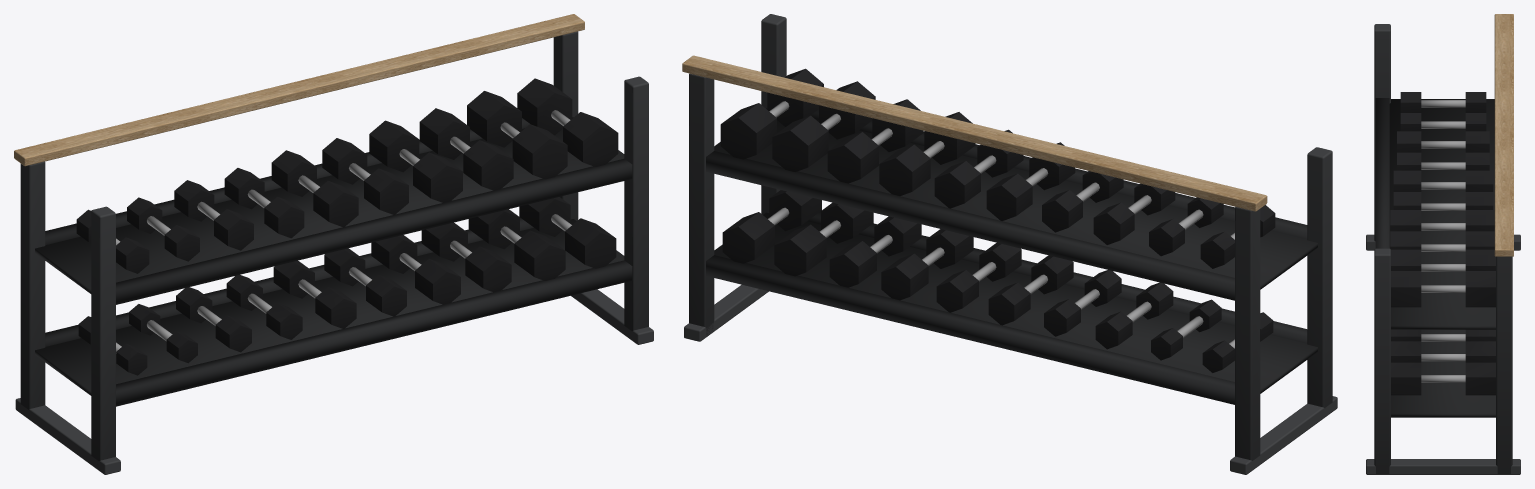
File: guest_dumbbell_rack.gltf
3 views of the same model, side by side, from view 1: azimuth 30°, elevation 25°; view 2: azimuth 150°, elevation 25°; view 3: azimuth 270°, elevation 25° (orthographic). The views are drawn at different scales.
Visible parts, largest first — view 1: GuestDumbbellRack_Heads, GuestDumbbellRack_Shelves, GuestDumbbellRack_TopRail, GuestDumbbellRack_Leg_F-1, GuestDumbbellRack_Leg_B-1, GuestDumbbellRack_Leg_F1, GuestDumbbellRack_Handles, GuestDumbbellRack_Foot-1, GuestDumbbellRack_Leg_B1, GuestDumbbellRack_Foot1; view 2: GuestDumbbellRack_Shelves, GuestDumbbellRack_Heads, GuestDumbbellRack_TopRail, GuestDumbbellRack_Leg_B-1, GuestDumbbellRack_Leg_F-1, GuestDumbbellRack_Leg_B1, GuestDumbbellRack_Handles, GuestDumbbellRack_Foot-1, GuestDumbbellRack_Leg_F1, GuestDumbbellRack_Foot1; view 3: GuestDumbbellRack_Shelves, GuestDumbbellRack_Heads, GuestDumbbellRack_TopRail, GuestDumbbellRack_Handles, GuestDumbbellRack_Leg_F1, GuestDumbbellRack_Leg_B1, GuestDumbbellRack_Foot1, GuestDumbbellRack_Leg_F-1, GuestDumbbellRack_Foot-1.
Boxes of the visible parts, x1,y1,x2,y2 form: GuestDumbbellRack_Heads: (76, 78, 618, 375); GuestDumbbellRack_Shelves: (35, 117, 632, 406); GuestDumbbellRack_TopRail: (14, 14, 584, 166); GuestDumbbellRack_Leg_F-1: (91, 206, 115, 464); GuestDumbbellRack_Leg_B-1: (20, 161, 45, 409); GuestDumbbellRack_Leg_F1: (624, 76, 648, 331); GuestDumbbellRack_Handles: (116, 110, 571, 353); GuestDumbbellRack_Foot-1: (15, 398, 120, 474); GuestDumbbellRack_Leg_B1: (553, 31, 578, 220); GuestDumbbellRack_Foot1: (571, 289, 653, 344); GuestDumbbellRack_Shelves: (706, 108, 1317, 404); GuestDumbbellRack_Heads: (720, 68, 1275, 372); GuestDumbbellRack_TopRail: (682, 55, 1267, 211); GuestDumbbellRack_Leg_B-1: (1235, 206, 1260, 460); GuestDumbbellRack_Leg_F-1: (1307, 147, 1332, 407); GuestDumbbellRack_Leg_B1: (689, 73, 714, 335); GuestDumbbellRack_Handles: (768, 101, 1234, 348); GuestDumbbellRack_Foot-1: (1230, 396, 1337, 474); GuestDumbbellRack_Leg_F1: (761, 14, 786, 214); GuestDumbbellRack_Foot1: (684, 285, 768, 341); GuestDumbbellRack_Shelves: (1375, 98, 1495, 417); GuestDumbbellRack_Heads: (1390, 92, 1495, 395); GuestDumbbellRack_TopRail: (1494, 14, 1513, 256); GuestDumbbellRack_Handles: (1421, 100, 1465, 382); GuestDumbbellRack_Leg_F1: (1374, 248, 1390, 473); GuestDumbbellRack_Leg_B1: (1496, 256, 1512, 473); GuestDumbbellRack_Foot1: (1366, 459, 1520, 474); GuestDumbbellRack_Leg_F-1: (1374, 24, 1390, 241); GuestDumbbellRack_Foot-1: (1366, 234, 1520, 250).
Bounding box in the file's own units: 2.02 × 0.91 × 0.56.
4 materials, 1 textured.
